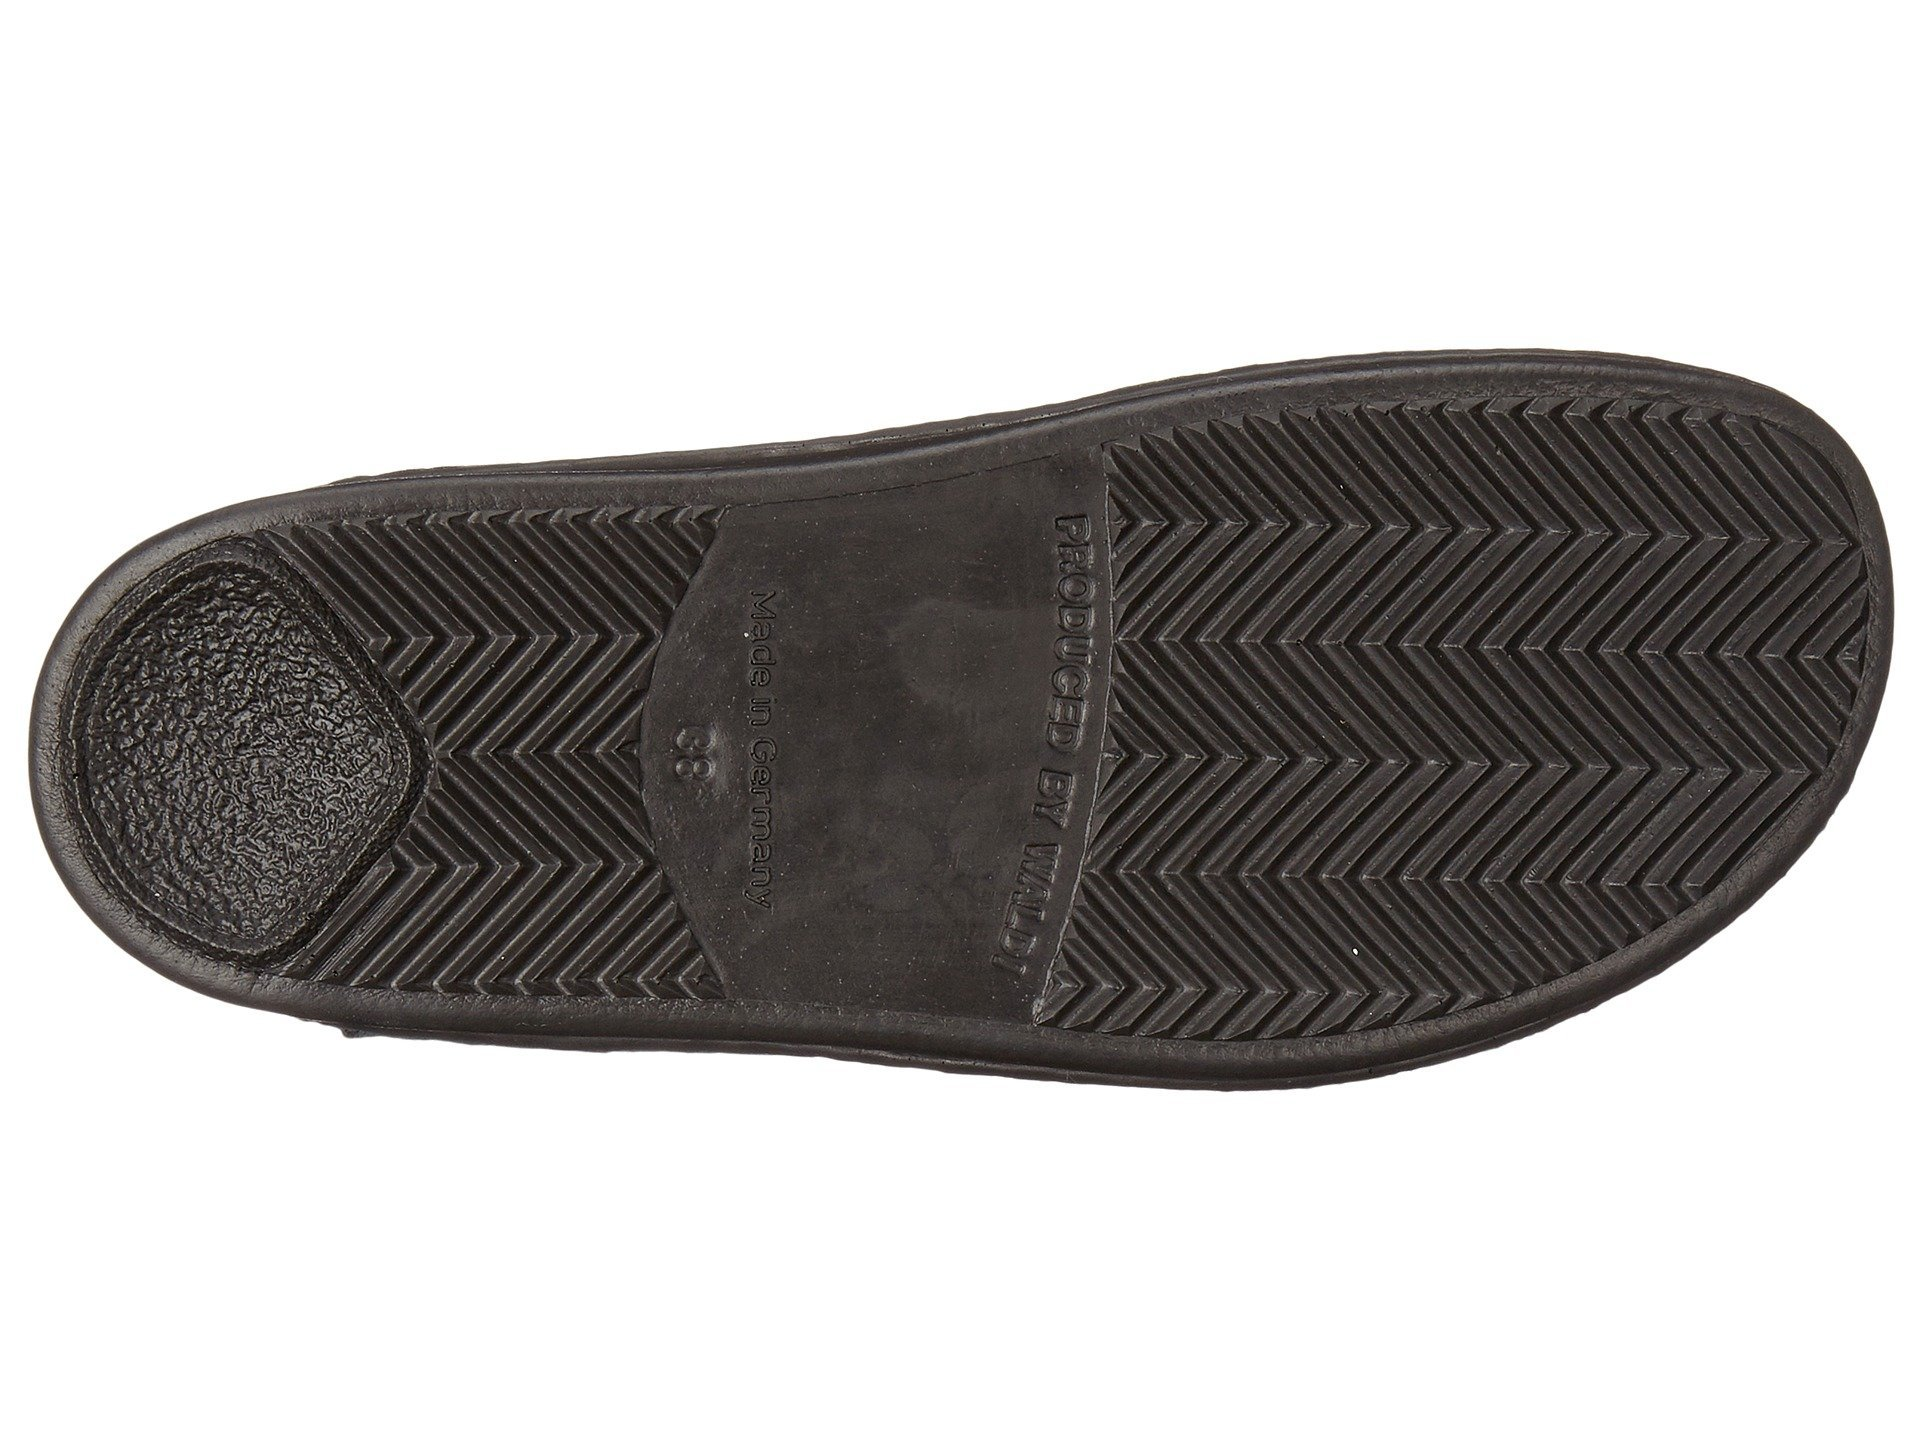chevron: (1160, 460, 1631, 948), (376, 534, 652, 784)
text: (667, 616, 946, 917), (974, 495, 1102, 682), (958, 694, 1105, 849)
